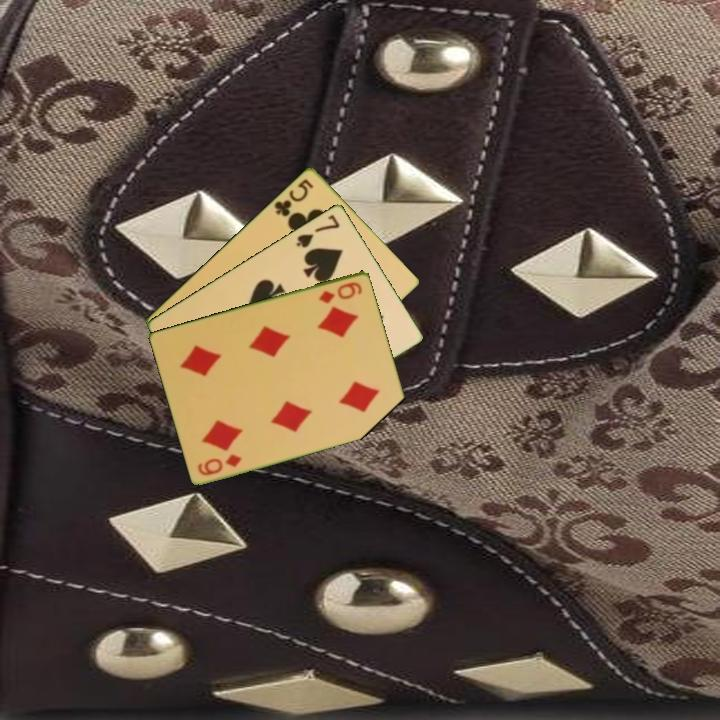5c: (271, 175, 316, 219)
6d: (194, 450, 245, 478), (315, 278, 365, 306)
7s: (293, 211, 343, 250)
